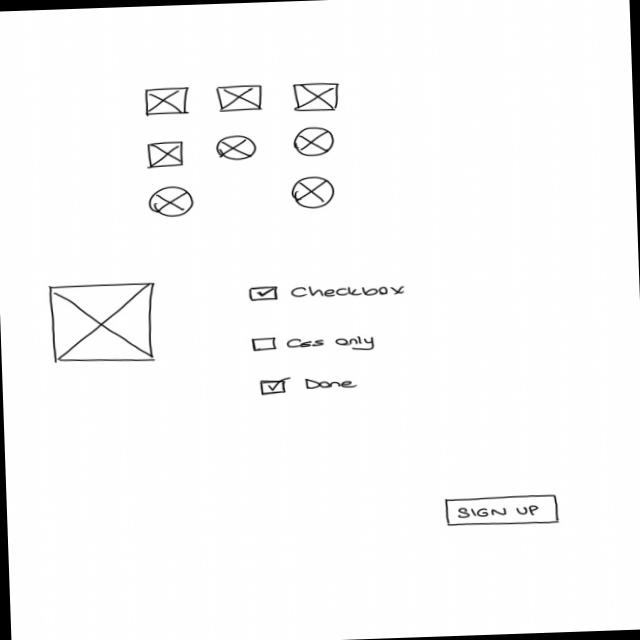button: (445, 494, 561, 528)
checkbox: (247, 281, 410, 303), (252, 332, 381, 358), (259, 374, 360, 398)
image: (48, 282, 159, 366), (291, 175, 337, 211), (148, 186, 196, 219), (292, 82, 340, 113), (145, 87, 192, 117), (217, 85, 264, 114), (294, 126, 336, 157), (146, 141, 187, 171), (217, 135, 257, 163)
